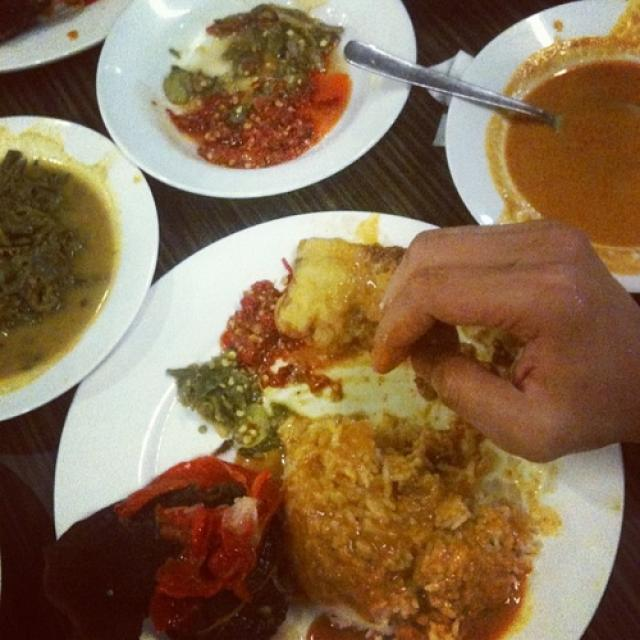米饭主食: (21, 26, 602, 624)
